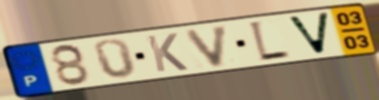0: (93, 37, 139, 81)
8: (49, 43, 91, 88)
K: (144, 32, 191, 74)
L: (246, 19, 292, 64)
V: (284, 11, 333, 57), (182, 23, 231, 69)
